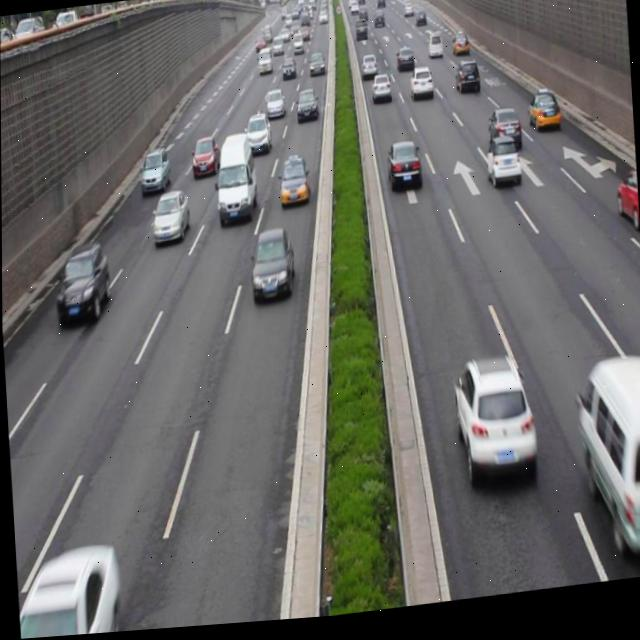car: (450, 355, 537, 489), (15, 545, 121, 639), (53, 240, 111, 326), (247, 229, 294, 305), (151, 189, 190, 249), (385, 143, 421, 201), (483, 139, 519, 195), (277, 159, 309, 211), (525, 94, 561, 140), (138, 149, 172, 196), (486, 113, 521, 158), (189, 136, 220, 179), (244, 116, 272, 158), (454, 66, 481, 102), (295, 91, 319, 128), (409, 70, 433, 106), (263, 91, 286, 127), (370, 77, 392, 110)
truck: (572, 359, 640, 566), (214, 136, 258, 225)
